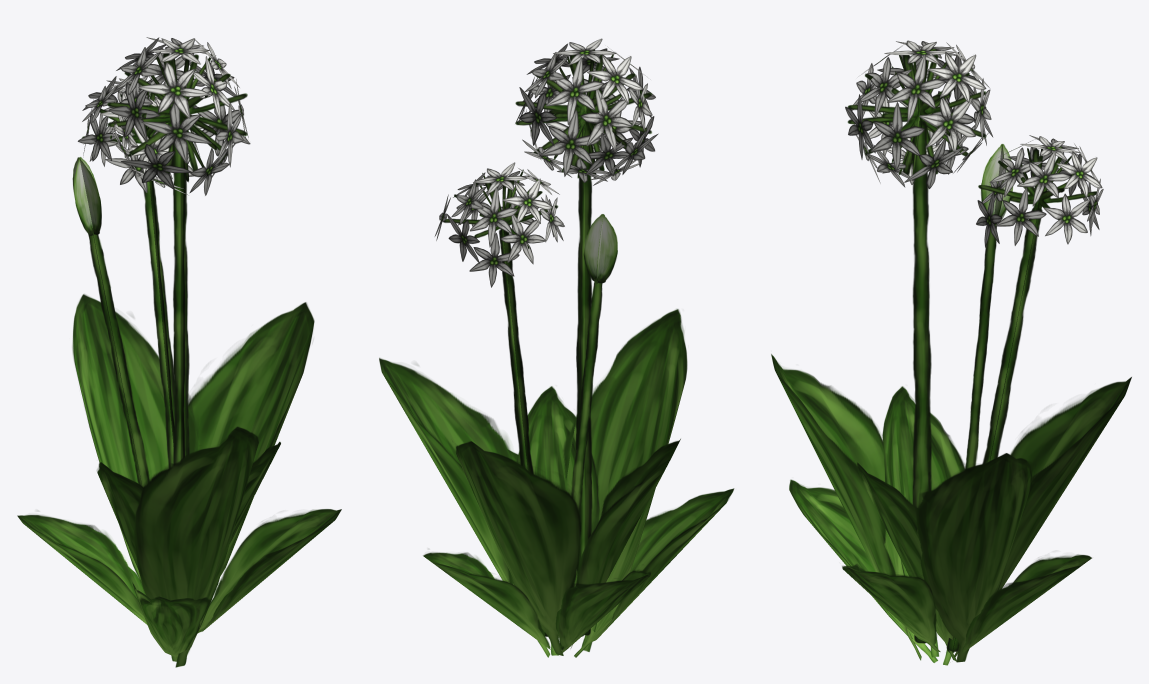
The model's file is wildgarlic.glb.
The picture shows the model from 3 angles, left to right: view 1: azimuth 30°, elevation 25°; view 2: azimuth 150°, elevation 25°; view 3: azimuth 270°, elevation 25°; orthographic projection. The views are drawn at different scales.
Visible parts, largest first — view 1: Object_2; view 2: Object_2; view 3: Object_2.
Part boxes in pixels (<box>): Object_2: <box>17,37,341,667</box>; Object_2: <box>379,38,734,657</box>; Object_2: <box>771,40,1131,665</box>.
Bounding box in the file's own units: 5.1 × 10.45 × 5.6.
Materials: 1 (1 with a texture image).
